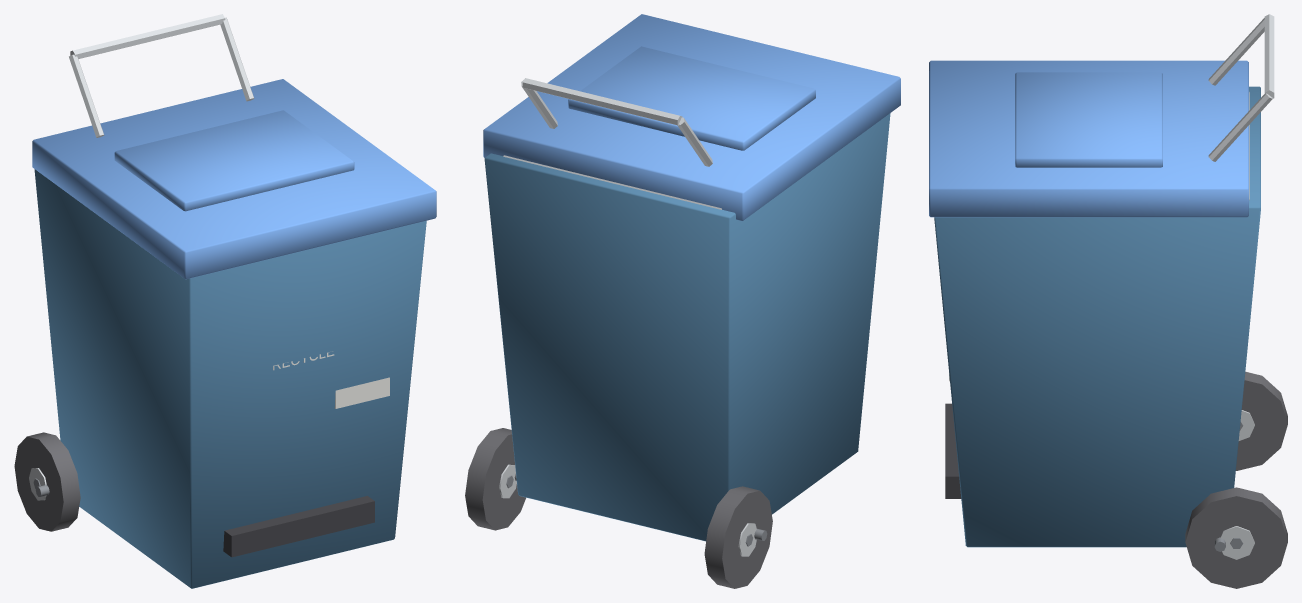
File: RecyclingCart_96.fbx
The picture shows the model from 3 angles, left to right: view 1: azimuth 30°, elevation 25°; view 2: azimuth 150°, elevation 25°; view 3: azimuth 270°, elevation 25°; orthographic projection. The views are drawn at different scales.
Parts seen in each view (by area): view 1: LOD0; view 2: LOD0; view 3: LOD0.
Part boxes in pixels (x1,y1,x2,y2): LOD0: (14, 14, 436, 588); LOD0: (465, 14, 900, 588); LOD0: (929, 14, 1287, 588).
Size of what is drawn, in the model's own units: 78 by 127 by 87.5.
